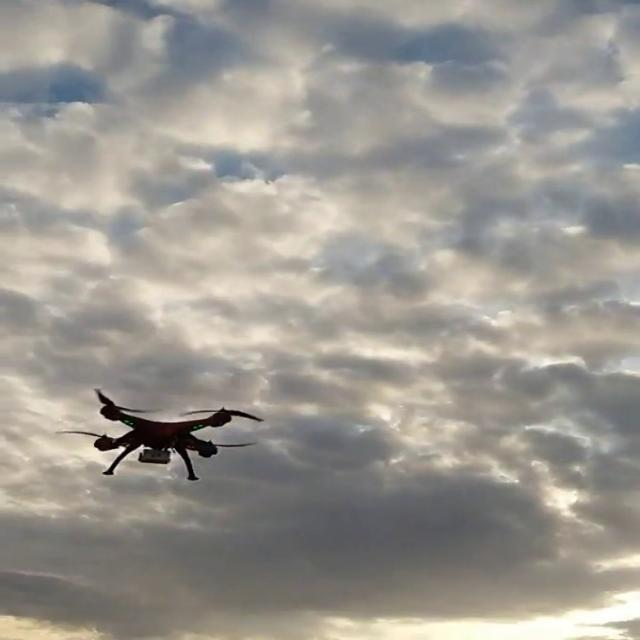drone: (54, 389, 268, 481)
